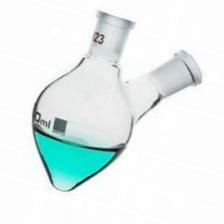Pear shaped flask: (12, 9, 205, 191)
